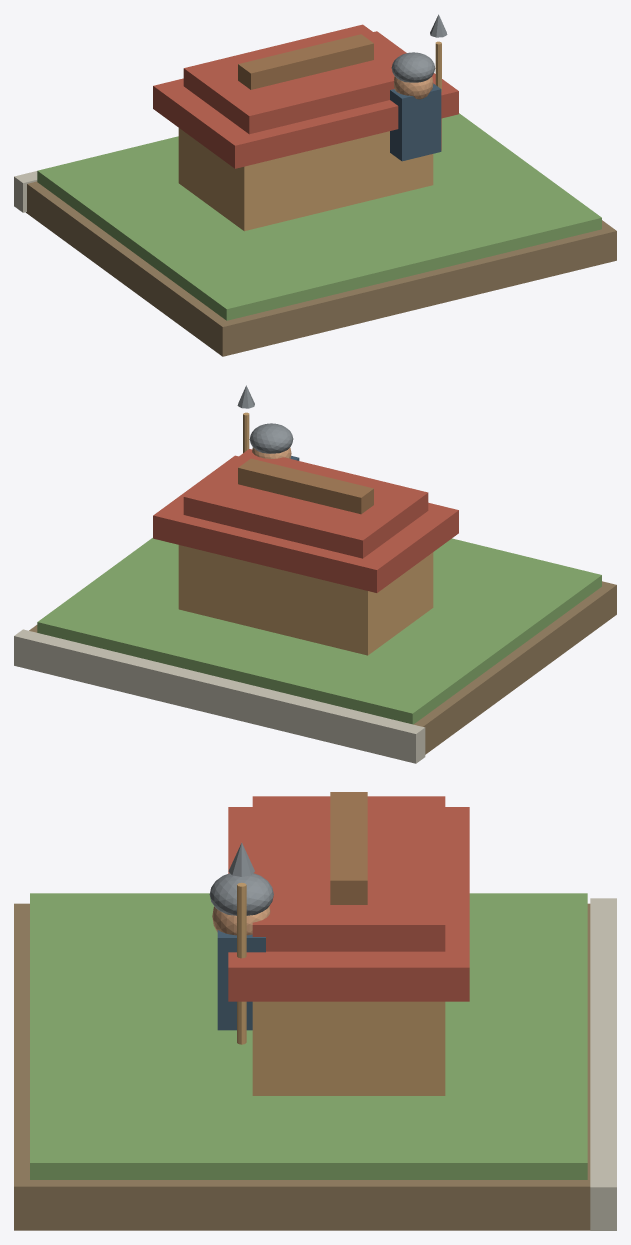
Rendered from 11_TraiHuanLuyen.glb.
The picture shows the model from 3 angles, top to bottom: view 1: azimuth 30°, elevation 25°; view 2: azimuth 150°, elevation 25°; view 3: azimuth 270°, elevation 25°; orthographic projection. The views are drawn at different scales.
Visible parts, largest first — view 1: grass, soil, hall, roof2, roof, ridge, body, helmet, head, border; view 2: grass, hall, border, roof2, roof, soil, ridge, helmet; view 3: grass, soil, roof2, hall, roof, border, ridge, body, helmet, spear, head.
Boxes of the visible parts, <box> form: grass: <box>37,113,601,320</box>; soil: <box>26,181,616,356</box>; hall: <box>178,128,433,231</box>; roof2: <box>183,24,402,134</box>; roof: <box>153,31,458,168</box>; ridge: <box>238,34,373,89</box>; body: <box>390,83,441,161</box>; helmet: <box>391,52,435,82</box>; head: <box>394,76,433,99</box>; border: <box>14,171,37,212</box>; grass: <box>37,538,601,724</box>; hall: <box>178,545,433,655</box>; border: <box>14,629,425,763</box>; roof2: <box>183,449,428,558</box>; roof: <box>153,455,458,592</box>; soil: <box>29,581,616,754</box>; ridge: <box>238,458,373,514</box>; helmet: <box>249,423,293,453</box>; grass: <box>30,893,587,1179</box>; soil: <box>14,903,590,1230</box>; roof2: <box>252,796,445,951</box>; hall: <box>252,1001,445,1095</box>; roof: <box>228,807,469,1001</box>; border: <box>590,898,616,1230</box>; ridge: <box>330,792,367,904</box>; body: <box>217,930,265,1030</box>; helmet: <box>209,873,273,915</box>; spear: <box>237,882,246,1044</box>; head: <box>212,906,270,935</box>.
Size of the model in its own units: 2.55 by 1.3 by 2.25.
